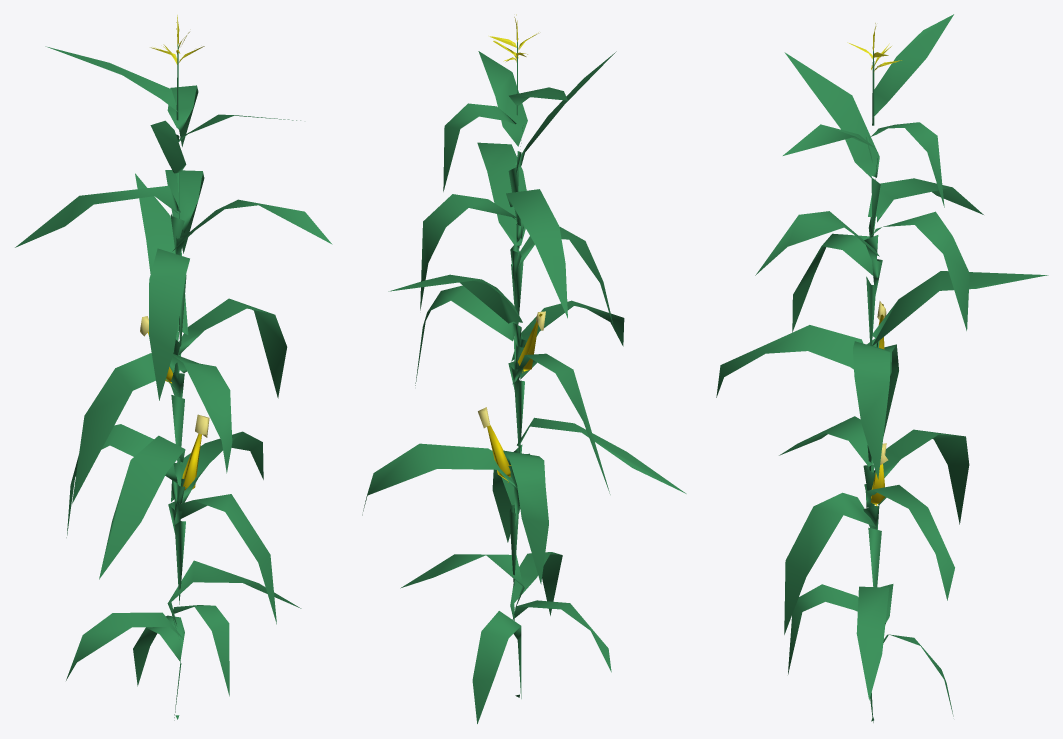
File: cornLOD3.gltf
3 views of the same model, side by side, from view 1: azimuth 30°, elevation 25°; view 2: azimuth 150°, elevation 25°; view 3: azimuth 270°, elevation 25° (orthographic). The views are drawn at different scales.
Visible parts, largest first — view 1: LeavesLOD3, CornLOD3; view 2: LeavesLOD3, CornLOD3; view 3: LeavesLOD3.
Boxes of the visible parts, bbox=[...] form: LeavesLOD3: bbox=[15, 46, 332, 720]; CornLOD3: bbox=[148, 332, 201, 490]; LeavesLOD3: bbox=[362, 51, 686, 723]; CornLOD3: bbox=[487, 313, 542, 482]; LeavesLOD3: bbox=[716, 14, 1048, 722].
Size of the model in its own units: 113 by 306 by 131.
